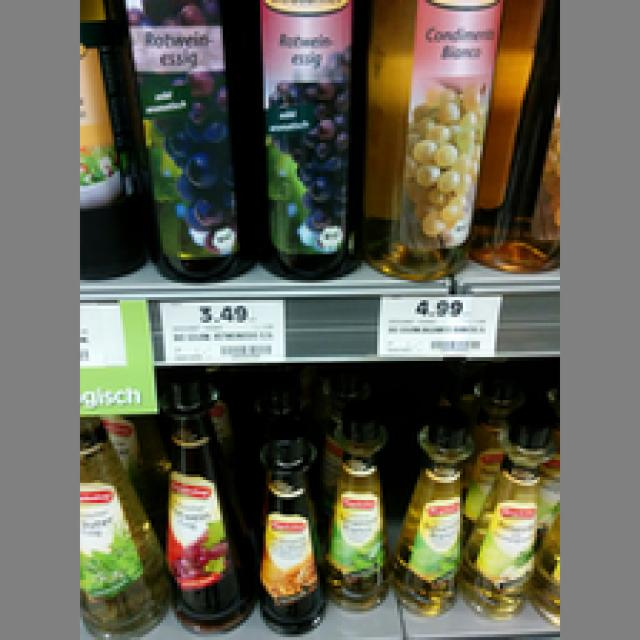groceries: (114, 0, 257, 277), (371, 0, 500, 277), (248, 0, 366, 277), (75, 414, 172, 637), (163, 386, 248, 631), (460, 417, 543, 623), (243, 434, 328, 634), (403, 406, 471, 626), (323, 417, 391, 612)
